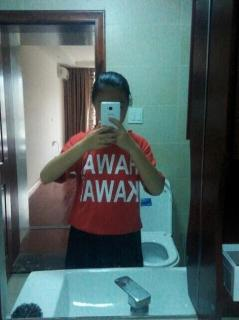short sleeve top: (54, 129, 166, 235)
skirt: (65, 217, 144, 269)
